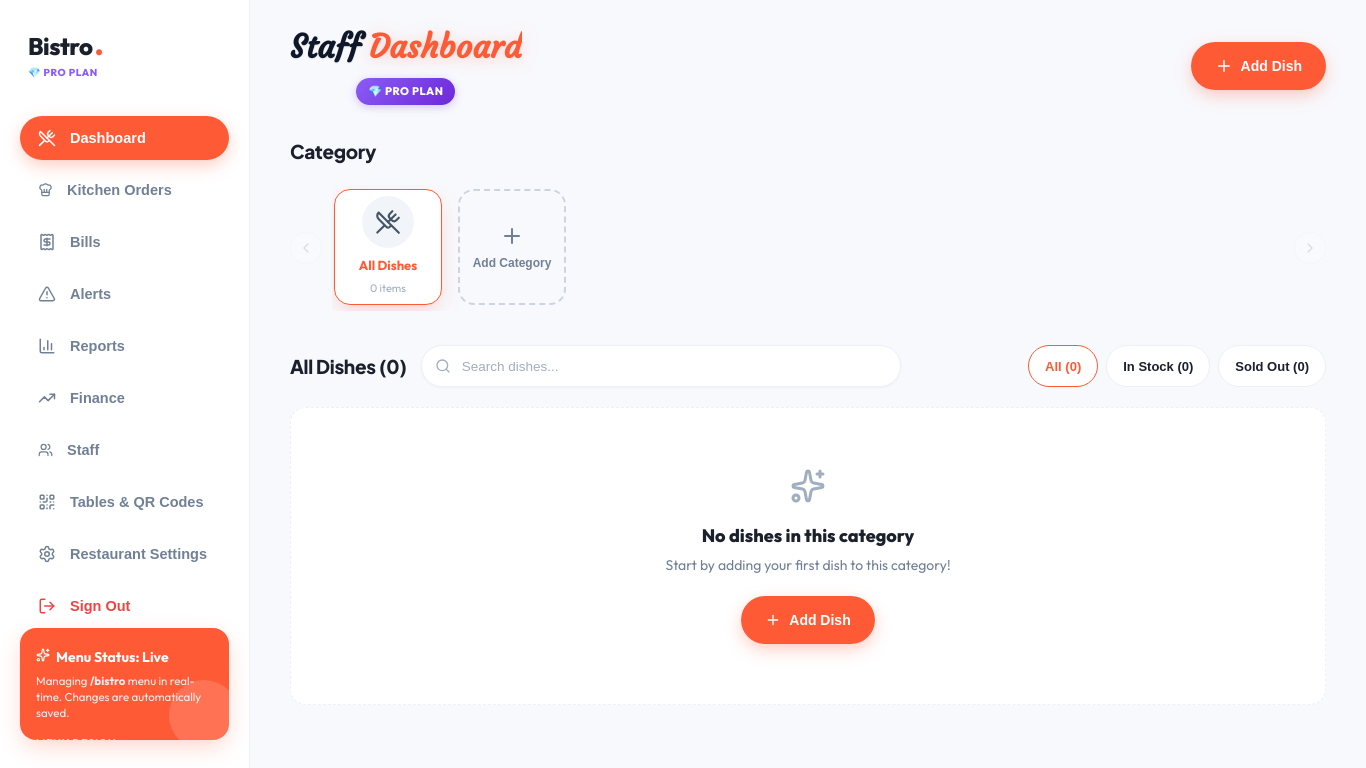
Test: AdminDashboardPage screens by role › lets a manager open the Staff screen
What coordinates should you click on to do the following:
click the button "Staff"
I would click on:
 (124, 450)
Its box is [20,428,229,472].
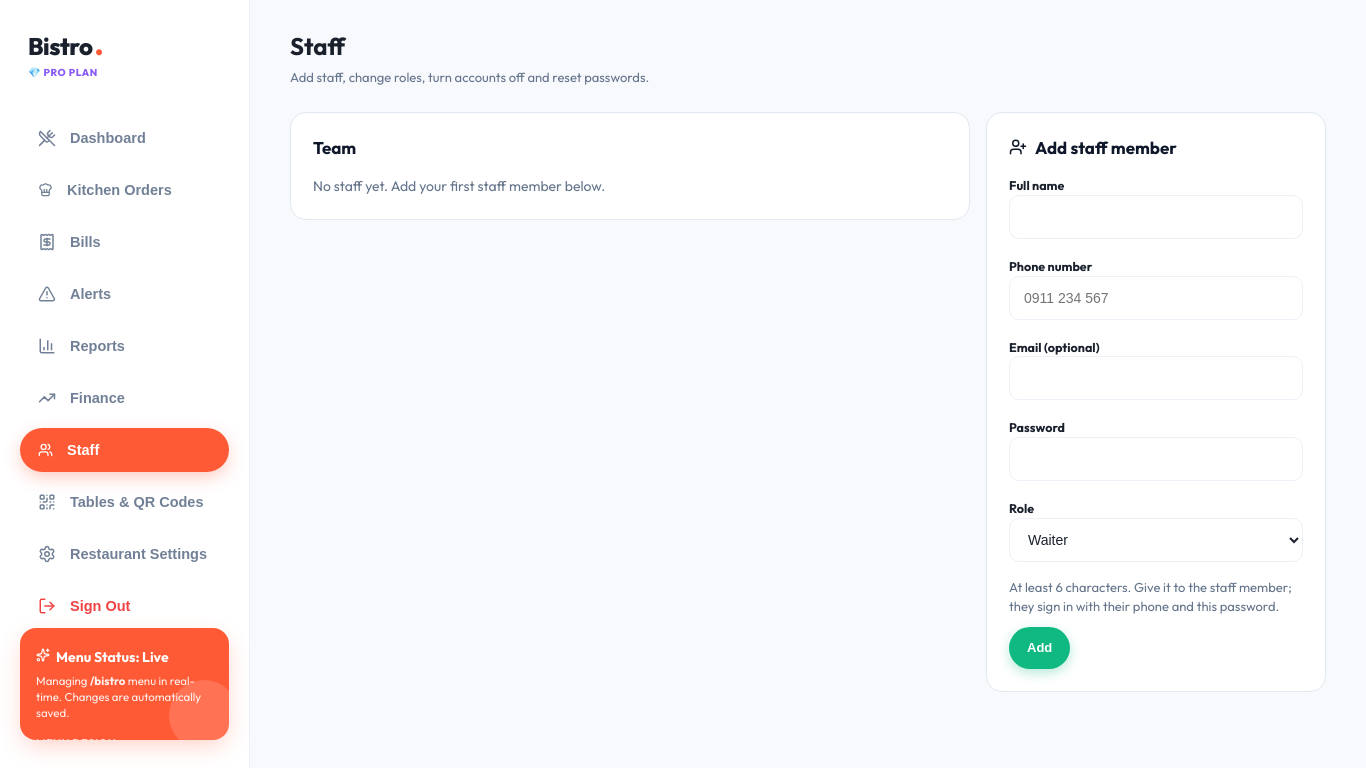
Expected: the element "Staff" is shown
